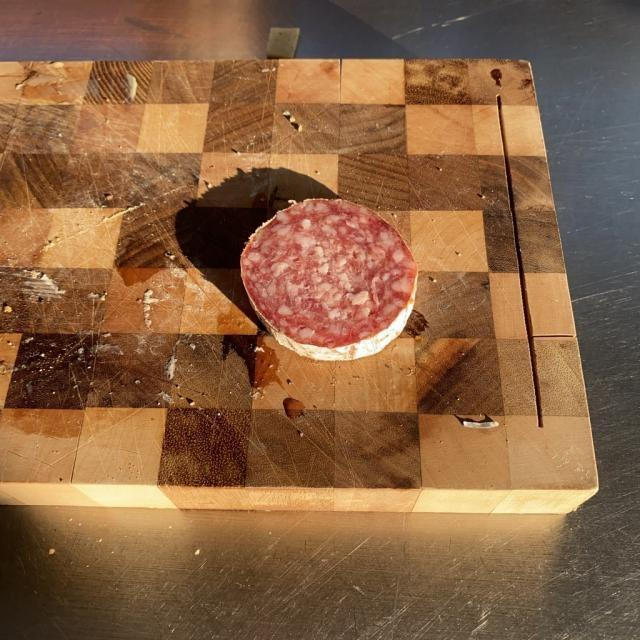salami: (245, 201, 413, 349)
